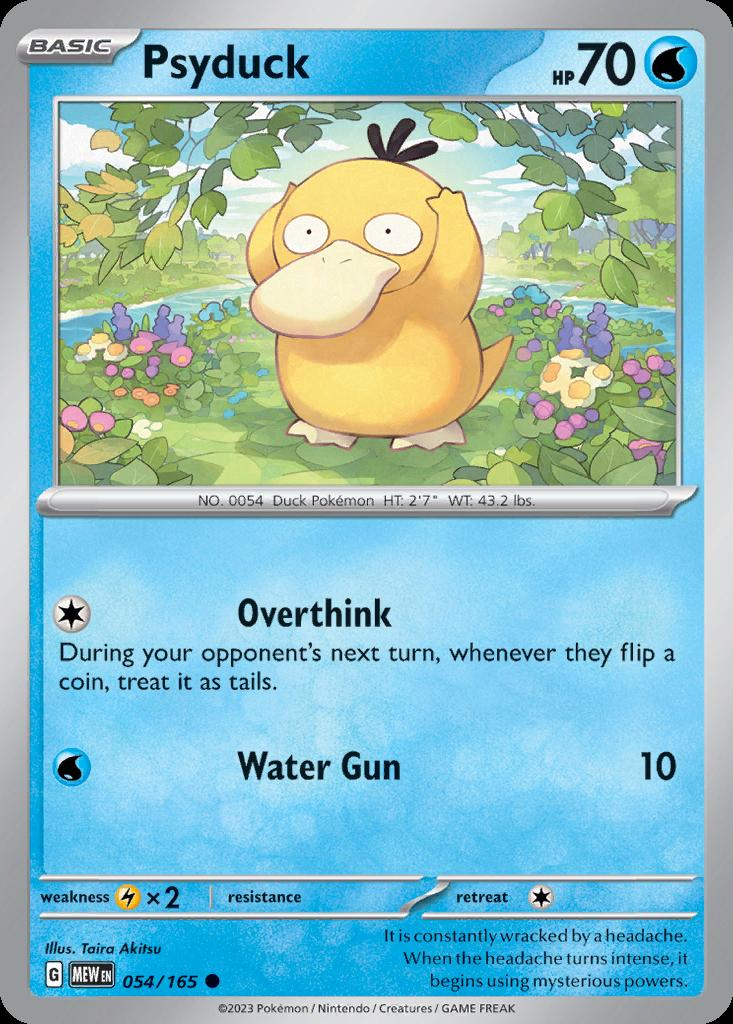card: (0, 0, 730, 1024)
hp: (539, 31, 701, 93)
name: (133, 26, 323, 87)
set num: (123, 966, 197, 994)
set symbol: (67, 956, 120, 994)
